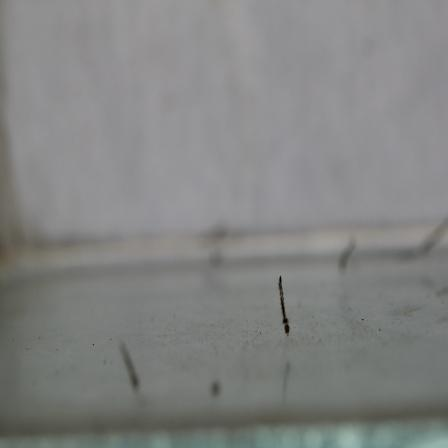Jentik-Nyamuk: (275, 272, 292, 338)
